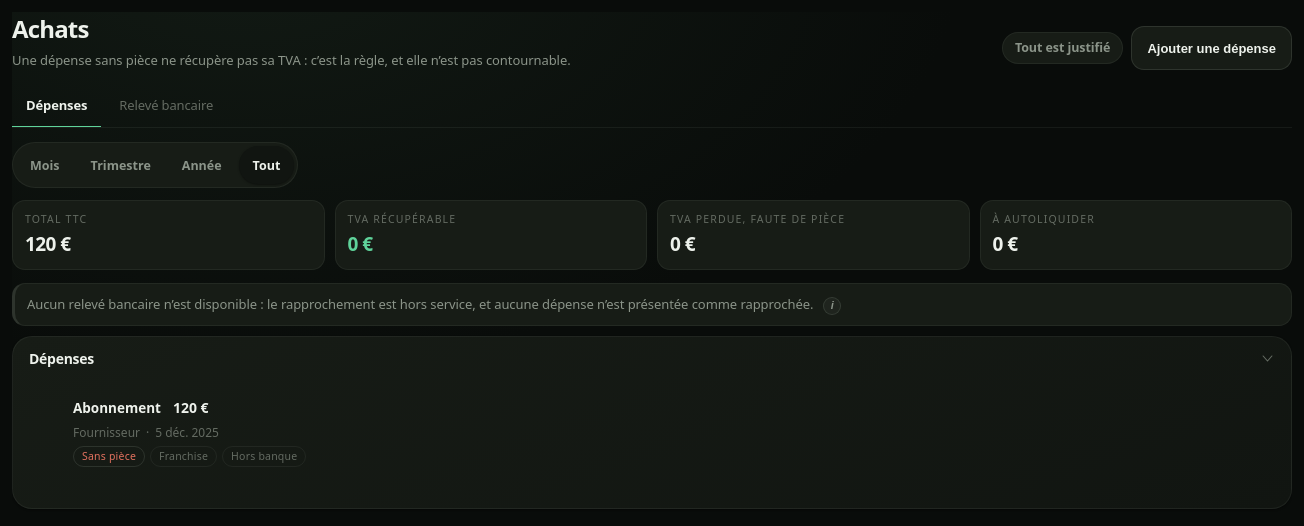
Scenario: l’année choisie ancre la période › ouvre la maille « mois » sur le dernier mois d’une année passée
This screenshot has width=1304, height=526.
Click the button "Mois".
click(45, 165)  # box [16,146,74,184]
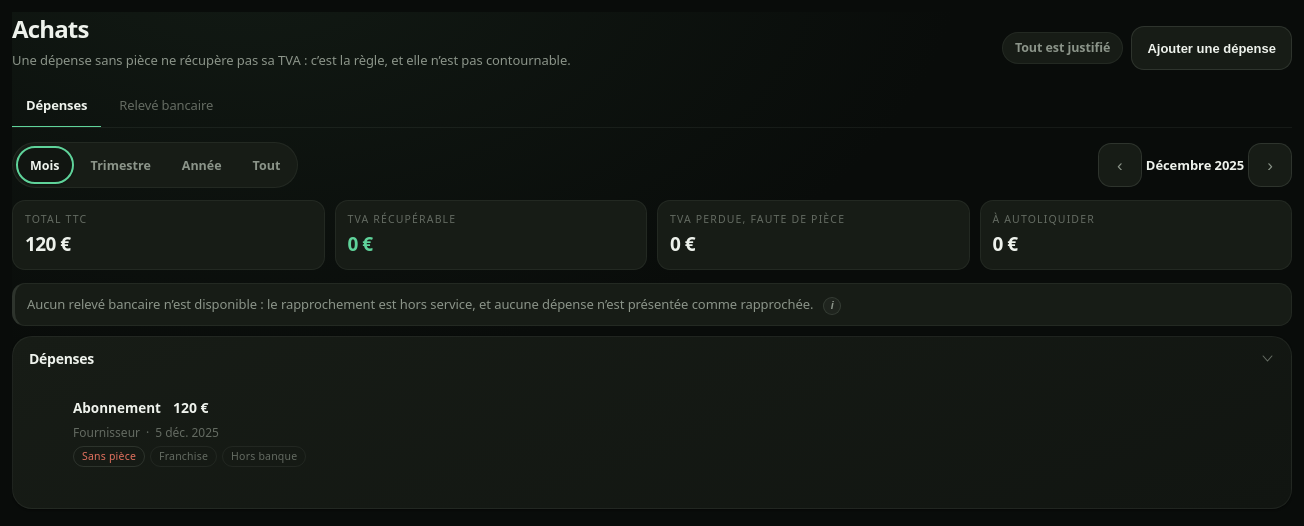
Expected: the text "Décembre 2025" is shown, [1146,156,1244,175]
